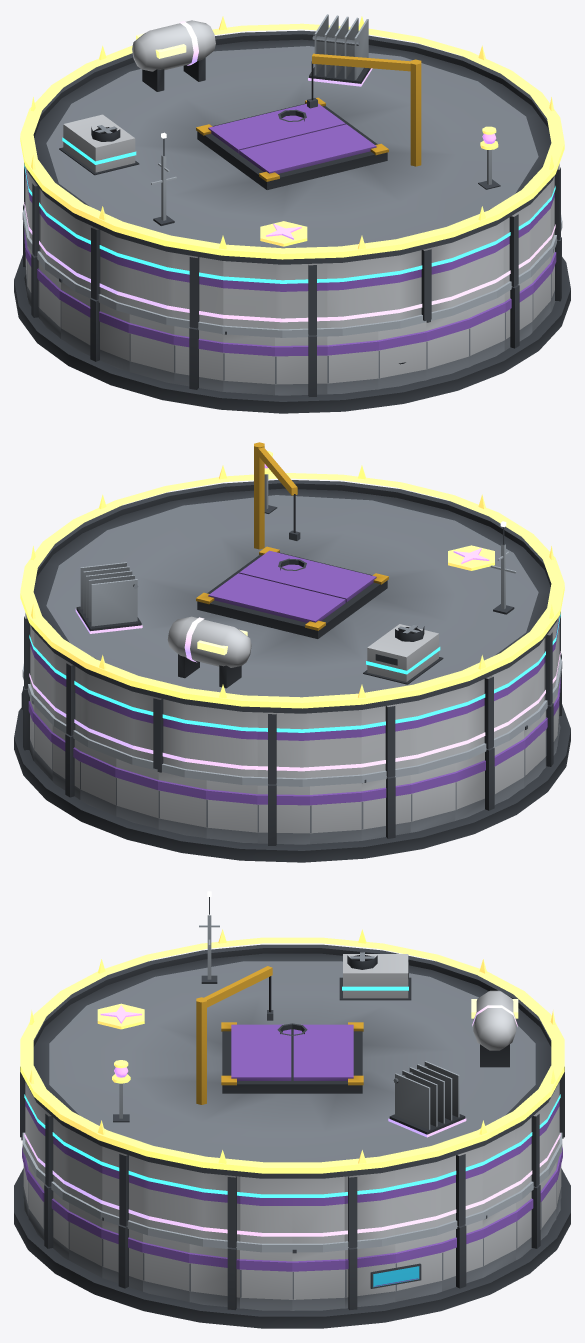
File: storehouse.glb
The picture shows the model from 3 angles, top to bottom: view 1: azimuth 30°, elevation 25°; view 2: azimuth 150°, elevation 25°; view 3: azimuth 270°, elevation 25°; orthographic projection.
Parts seen in each view (by area): view 1: Roof, L5, Base, L4, L3, Upper_21, Wall_21, Upper_19, Upper_20, Wall_20, Wall_22, Upper_23 (+26 smaller); view 2: Roof, L5, Base, L4, L3, Upper_10, Wall_10, Upper_12, Upper_11, Wall_11, Wall_09, Upper_08 (+26 smaller); view 3: Roof, L5, Base, L4, L3, Upper_00, Upper_31, Upper_01, Upper_30, Wall_00, Wall_31, Wall_30 (+26 smaller).
Part boxes in pixels (x1,y1,x2,y2): Roof: (27, 30, 553, 264); L5: (20, 16, 564, 259); Base: (14, 255, 570, 413); L4: (132, 14, 372, 91); L3: (59, 109, 306, 175); Upper_21: (275, 263, 327, 335); Wall_21: (275, 335, 327, 396); Upper_19: (174, 253, 223, 328); Upper_20: (223, 261, 274, 328); Wall_20: (223, 331, 274, 395); Wall_22: (327, 331, 378, 394); Upper_23: (378, 249, 427, 322); Roof: (31, 442, 557, 713); L5: (20, 451, 564, 708); Base: (14, 704, 570, 862); L4: (75, 562, 251, 688); L3: (278, 558, 443, 684); Upper_10: (257, 712, 309, 784); Wall_10: (257, 784, 309, 845); Upper_12: (361, 702, 410, 777); Upper_11: (310, 710, 361, 777); Wall_11: (310, 783, 361, 844); Wall_09: (206, 780, 257, 843); Upper_08: (157, 698, 206, 771); Roof: (23, 944, 561, 1178); L5: (20, 929, 564, 1173); Base: (14, 1168, 570, 1328); L4: (388, 990, 518, 1137); L3: (277, 952, 411, 1035); Upper_00: (292, 1176, 344, 1243); Upper_31: (240, 1176, 292, 1243); Upper_01: (344, 1170, 394, 1248); Upper_30: (190, 1170, 240, 1248); Wall_00: (292, 1249, 345, 1310); Wall_31: (239, 1250, 292, 1310); Wall_30: (189, 1244, 239, 1310).
Bounding box in the file's own units: 10.73 × 5.3 × 10.73.
